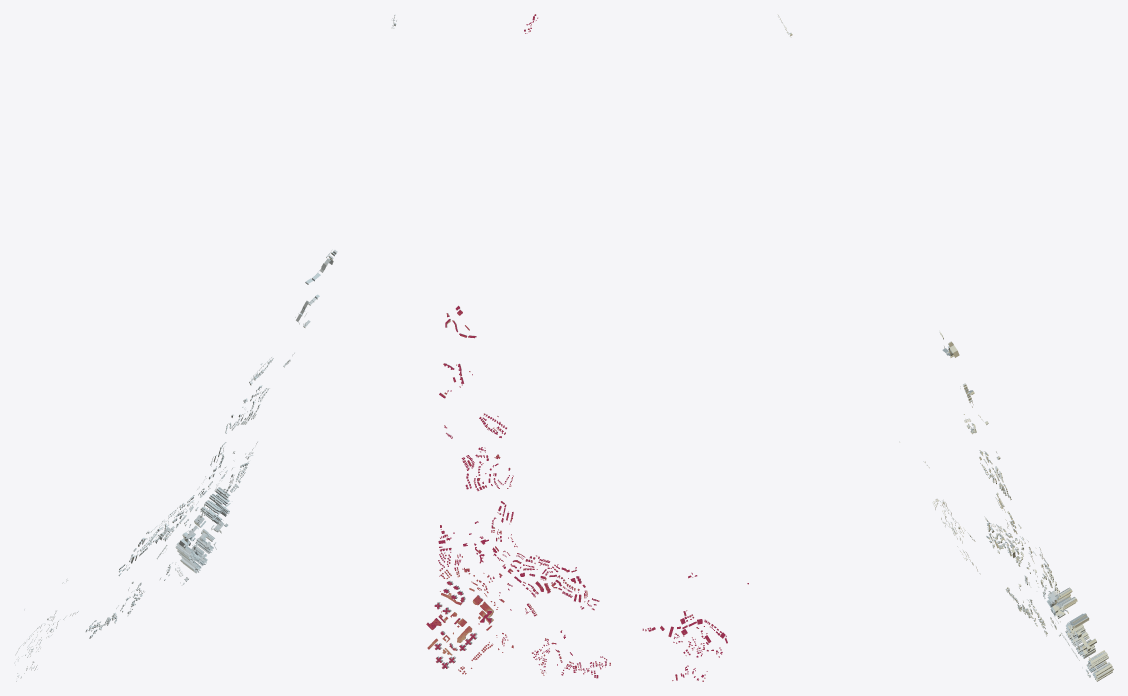
3 renders of one model, left to right at view 1: azimuth 30°, elevation 25°; view 2: azimuth 150°, elevation 25°; view 3: azimuth 270°, elevation 25°, orthographic. The views are drawn at different scales.
Visible parts, largest first — view 1: geometry_0; view 2: geometry_0; view 3: geometry_0.
Part boxes in pixels (<box>): geometry_0: <box>14,14,396,681</box>; geometry_0: <box>426,14,748,681</box>; geometry_0: <box>777,14,1113,681</box>.
Bounding box in the file's own units: 2387 × 4494 × 1971.
